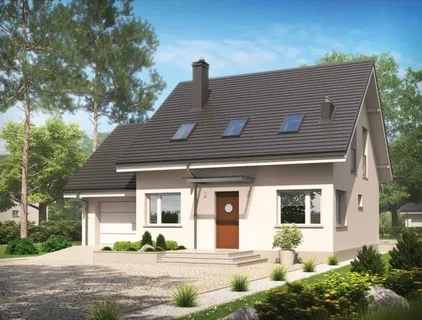private_hause: (96, 78, 386, 252)
